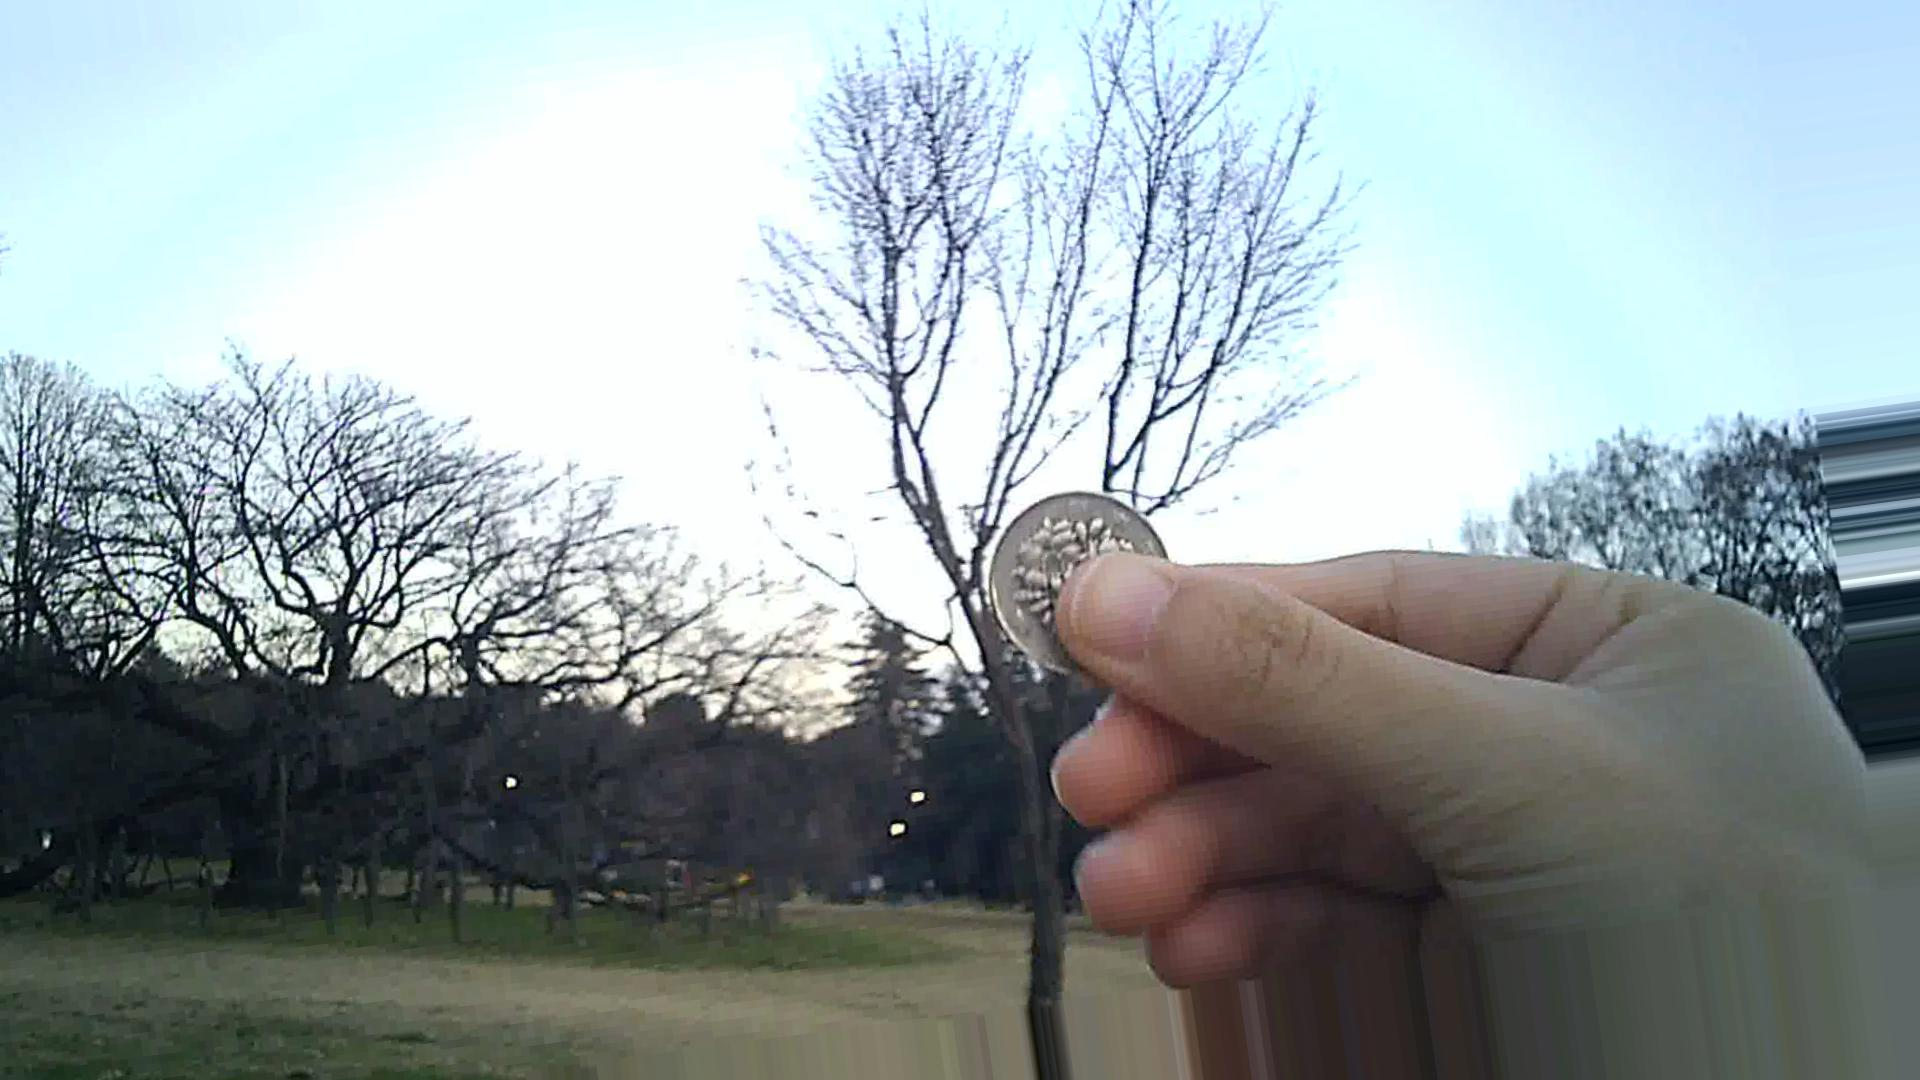100 Yen: (975, 493, 1176, 669)
